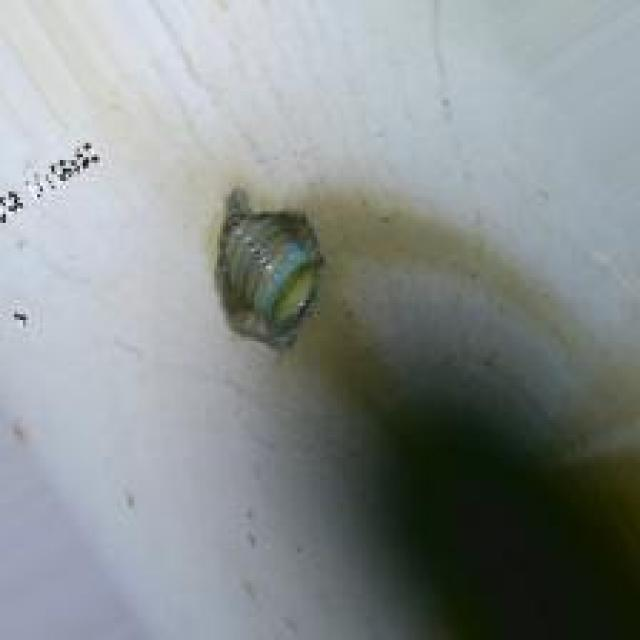ferrule: (208, 194, 326, 343)
